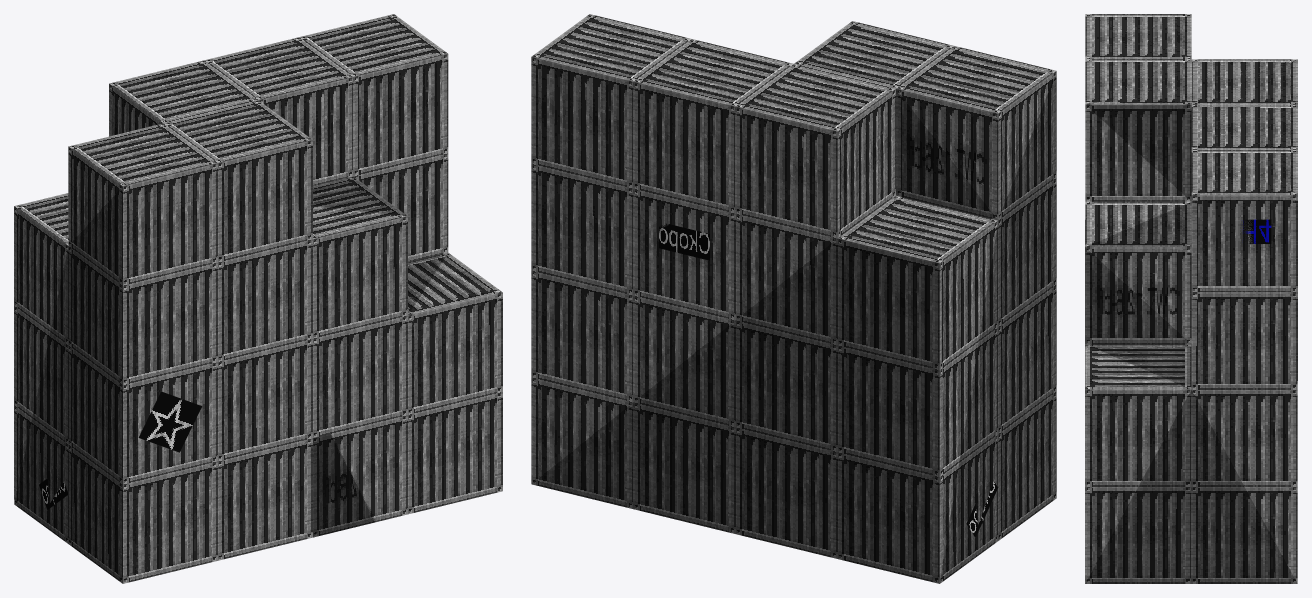
Rendered from primary_090.glb.
The picture shows the model from 3 angles, left to right: view 1: azimuth 30°, elevation 25°; view 2: azimuth 150°, elevation 25°; view 3: azimuth 270°, elevation 25°; orthographic projection. The views are drawn at different scales.
Parts seen in each view (by area): view 1: Object; view 2: Object; view 3: Object.
Boxes of the visible parts, <box> form: Object: <box>14,14,502,583</box>; Object: <box>531,14,1056,583</box>; Object: <box>1085,14,1297,583</box>.
Bounding box in the file's own units: 5.85 × 5.85 × 2.9.
Materials: 8 (8 with a texture image).
